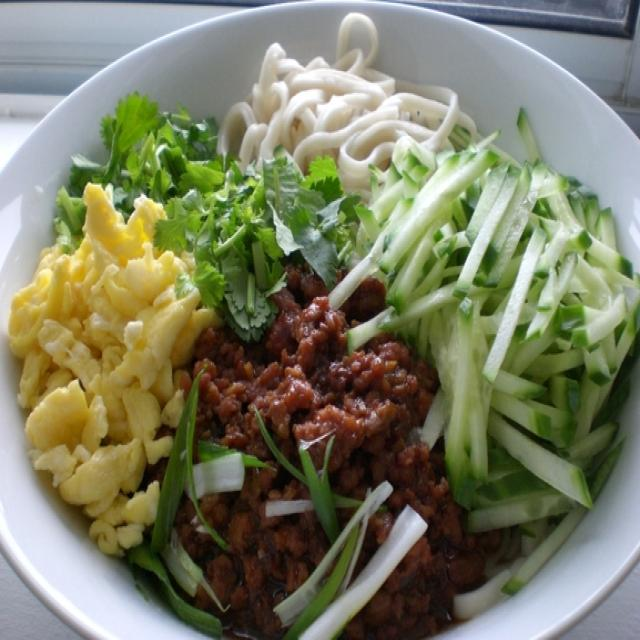面条主食: (8, 24, 636, 625)
